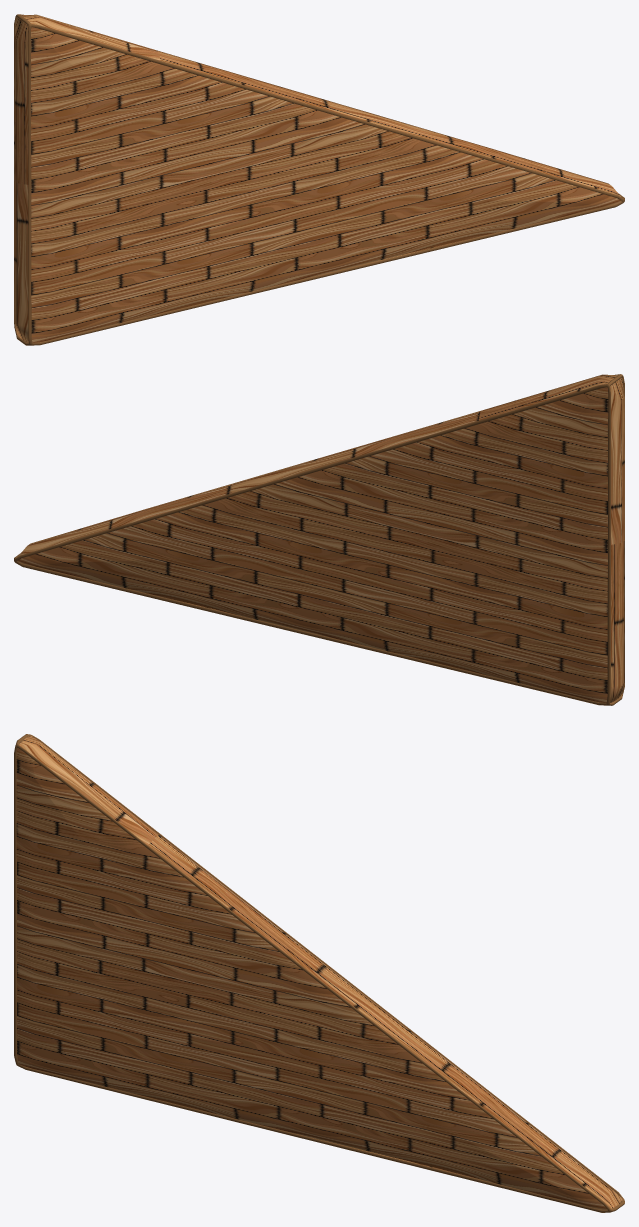
Rendered from SM_FoamRampSide_2x4.fbx.
3 renders of one model, top to bottom at view 1: azimuth 30°, elevation 25°; view 2: azimuth 150°, elevation 25°; view 3: azimuth 330°, elevation 25°, orthographic.
Parts seen in each view (by area): view 1: SM_FoamRampSide_2x4; view 2: SM_FoamRampSide_2x4; view 3: SM_FoamRampSide_2x4.
Part boxes in pixels (x1,y1,x2,y2): SM_FoamRampSide_2x4: (14,14,624,345); SM_FoamRampSide_2x4: (14,374,624,705); SM_FoamRampSide_2x4: (14,734,624,1212).
Bounding box in the file's own units: 397 × 207 × 20.
